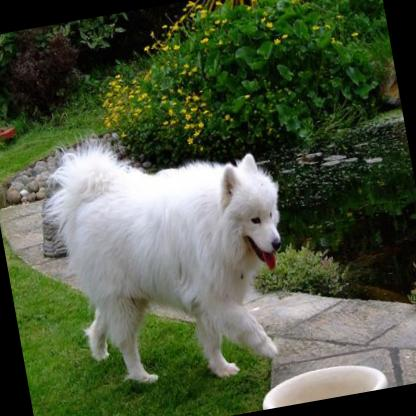Samoyed: (22, 101, 308, 403)
